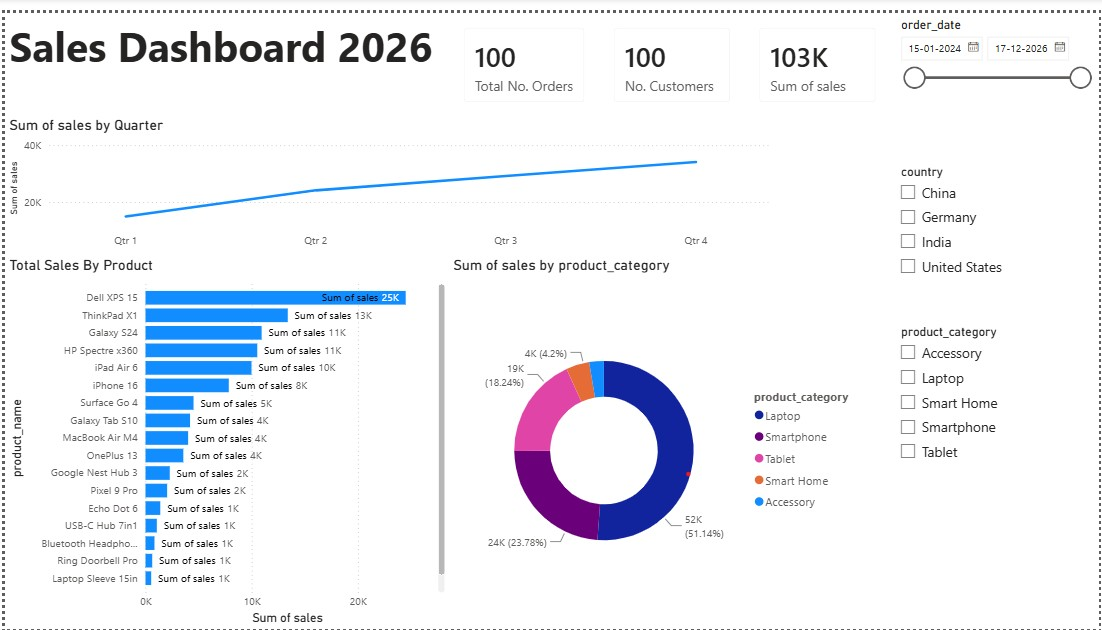

The dashboard page shown, as its layout file describes it:
{"tool":"powerbi","page":{"name":"sales ","canvas":[1280,720],"ordinal":0},"visuals":[{"type":"barChart","title":"Total Sales By Product","fields":{"Category":["orders.product_name"],"Y":["Sum(orders.sales)"]},"box":[0,284.2,519.3,435.1],"z":0},{"type":"donutChart","fields":{"Category":["orders.product_category"],"Y":["Sum(orders.sales)"]},"box":[519.3,284.2,487.7,435.1],"z":1},{"type":"cardVisual","fields":{"Data":["CountNonNull(orders.order_id)"]},"box":[519.3,0,175.4,121.1],"z":2},{"type":"cardVisual","fields":{"Data":["CountNonNull(orders.customer_id)"]},"box":[694.7,0,170.2,121.1],"z":3},{"type":"cardVisual","fields":{"Data":["Sum(orders.sales)"]},"box":[864.9,0,170.2,121.1],"z":4},{"type":"lineChart","fields":{"Category":["orders.order_date.Variation.Date Hierarchy.Year","orders.order_date.Variation.Date Hierarchy.Quarter","orders.order_date.Variation.Date Hierarchy.Month","orders.order_date.Variation.Date Hierarchy.Day"],"Y":["Sum(orders.sales)"]},"box":[0,121.1,901.8,163.2],"z":5},{"type":"slicer","fields":{"Values":["customers.country"]},"box":[1035.1,171.9,245.6,159.6],"z":7},{"type":"slicer","fields":{"Values":["orders.product_category"]},"box":[1035.1,359.6,245.6,186],"z":8},{"type":"slicer","fields":{"Values":["orders.order_date"]},"box":[1035.1,0,243.9,171.9],"z":9},{"type":"textbox","box":[0,0,519.3,121.1],"z":11}]}

Visuals, with their boxes in screenshot pixels (x1, y1, x2, y2), scaled from the page's 1280x720 canvas onto the 1102x630 screenshot:
"Total Sales By Product" barChart: (0, 249, 447, 629)
donutChart - orders.product_category x Sum(orders.sales): (447, 249, 867, 629)
cardVisual - CountNonNull(orders.order_id): (447, 0, 598, 106)
cardVisual - CountNonNull(orders.customer_id): (598, 0, 745, 106)
cardVisual - Sum(orders.sales): (745, 0, 891, 106)
lineChart - orders.order_date.Variation.Date Hierarchy.Year x orders.order_date.Variation.Date Hierarchy.Quarter: (0, 106, 776, 249)
slicer - customers.country: (891, 150, 1101, 290)
slicer - orders.product_category: (891, 315, 1101, 477)
slicer - orders.order_date: (891, 0, 1101, 150)
textbox: (0, 0, 447, 106)
